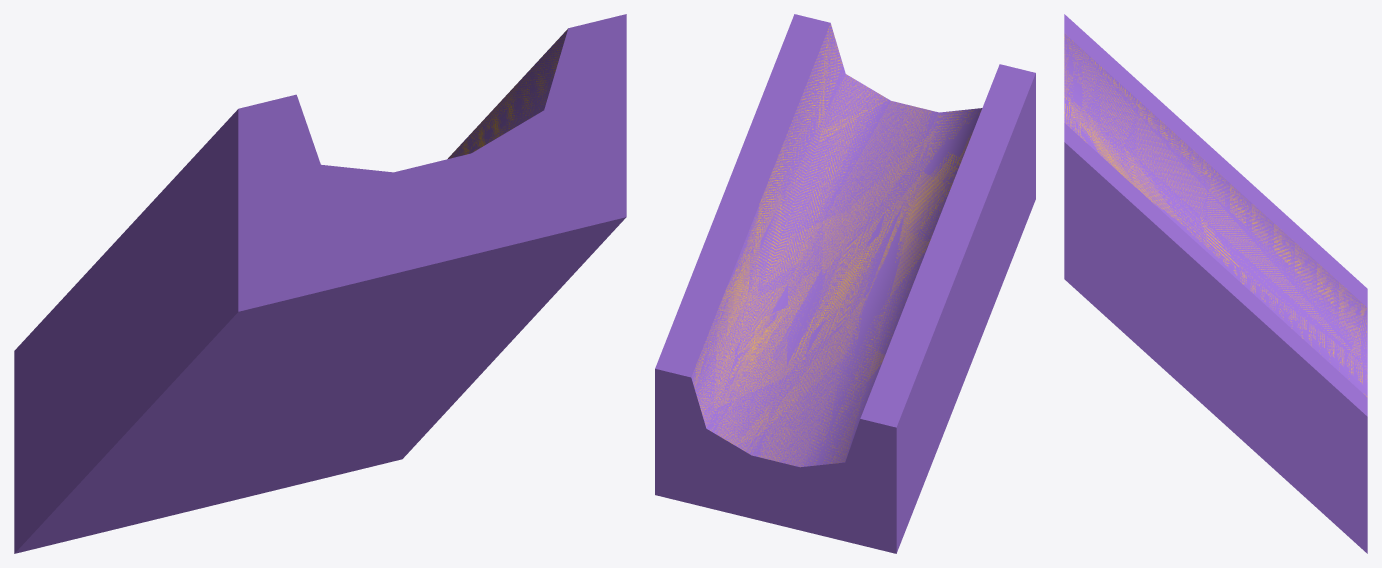
The model's file is slant-c.glb.
The picture shows the model from 3 angles, left to right: view 1: azimuth 30°, elevation 25°; view 2: azimuth 150°, elevation 25°; view 3: azimuth 270°, elevation 25°; orthographic projection. The views are drawn at different scales.
Visible parts, largest first — view 1: slant-c; view 2: slant-c; view 3: slant-c.
Part boxes in pixels (bbox=[...]): slant-c: bbox=[14, 14, 626, 553]; slant-c: bbox=[655, 14, 1035, 553]; slant-c: bbox=[1064, 14, 1367, 553].
Bounding box in the file's own units: 1 × 1.5 × 1.
Materials: 1 (1 with a texture image).
